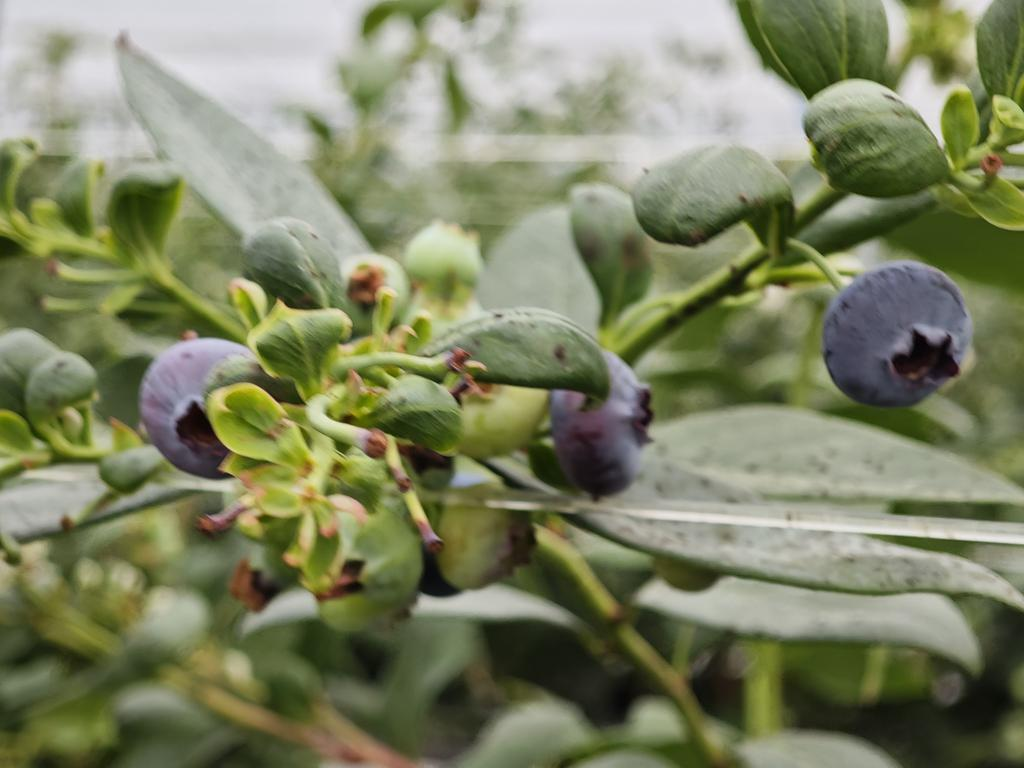RipeBlueBerry: (818, 260, 972, 409), (134, 337, 273, 481), (547, 351, 653, 499)
